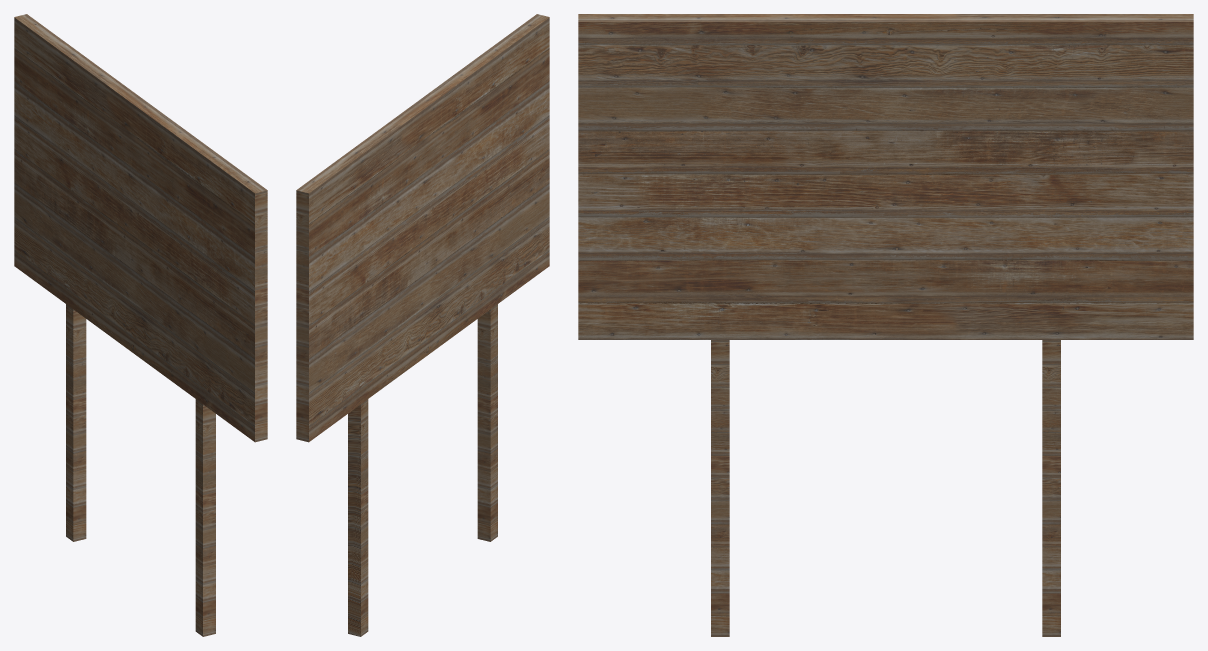
File: banner.fbx
The picture shows the model from 3 angles, left to right: view 1: azimuth 30°, elevation 25°; view 2: azimuth 150°, elevation 25°; view 3: azimuth 270°, elevation 25°; orthographic projection. The views are drawn at different scales.
Visible parts, largest first — view 1: Cube; view 2: Cube; view 3: Cube.
Part boxes in pixels (bbox=[...]): Cube: bbox=[14, 14, 267, 636]; Cube: bbox=[296, 14, 549, 636]; Cube: bbox=[578, 14, 1193, 636].
Size of the model in its own units: 0.1175 by 4.23 by 3.84.
